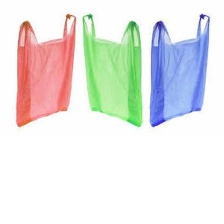plastic_bag: (10, 10, 77, 132), (79, 11, 143, 134), (146, 10, 211, 130)
